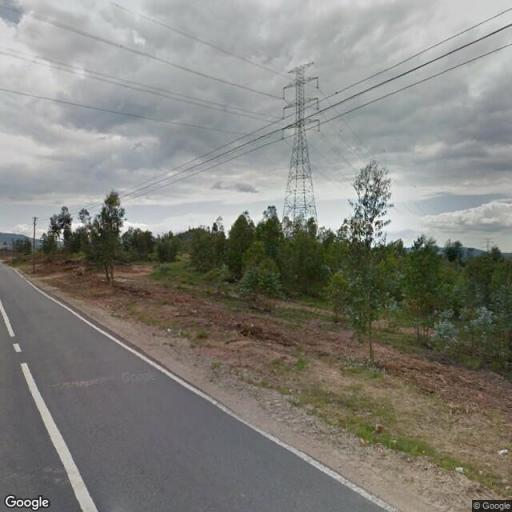ss_3: (279, 62, 323, 232)
